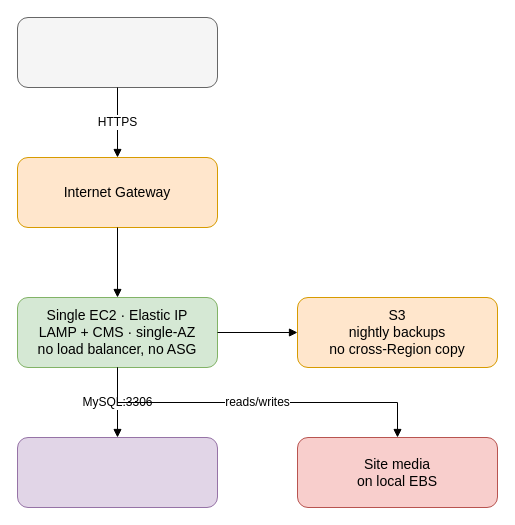
This 515x525 diagram has some shape labels left out. The centre of each missing label's shape, as x and y in pixels:
Public visitors (24x7, worldwide): (x=117, y=52)
RDS for MySQL single instance · single-AZ: (x=117, y=472)
